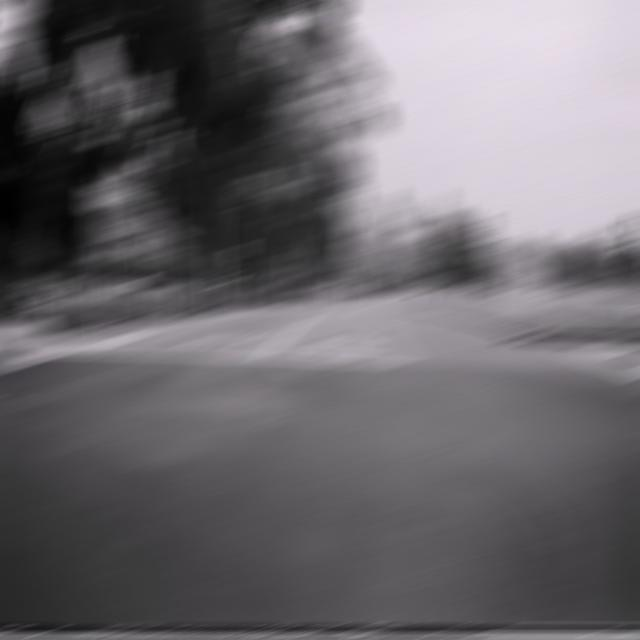speedLimit30: (471, 216, 495, 243)
